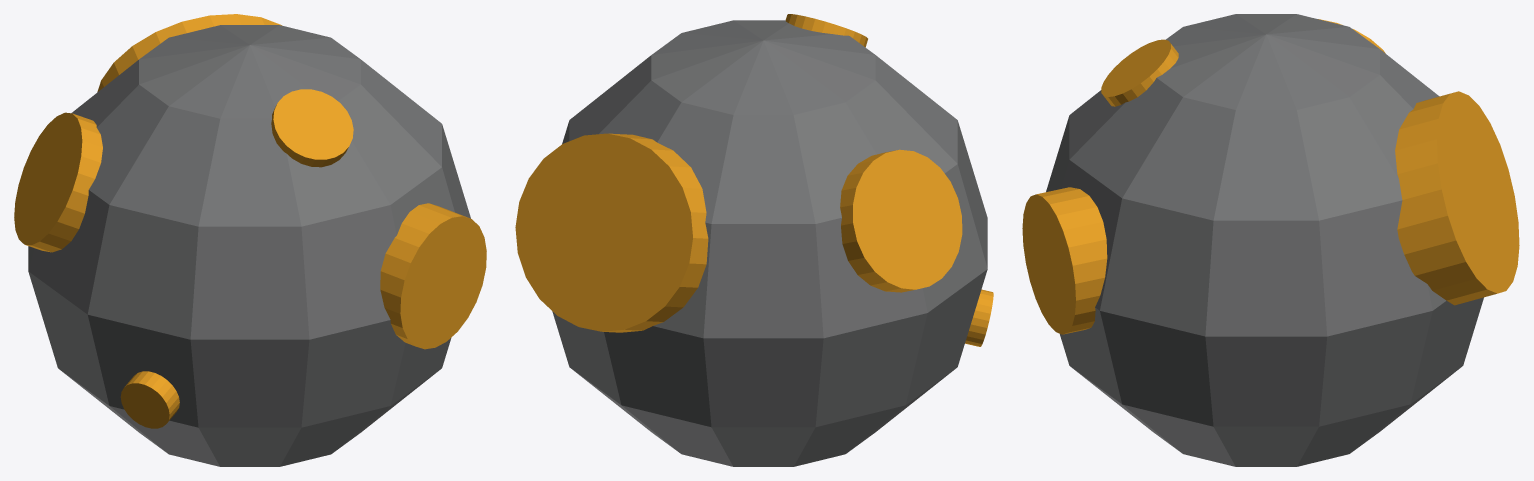
File: AsteroidExoticMatter.obj
The picture shows the model from 3 angles, left to right: view 1: azimuth 30°, elevation 25°; view 2: azimuth 150°, elevation 25°; view 3: azimuth 270°, elevation 25°; orthographic projection. The views are drawn at different scales.
Visible parts, largest first — view 1: AsteroidBody, Exotic5, Exotic2, Exotic1, Exotic4, Exotic3; view 2: AsteroidBody, Exotic3, Exotic2, Exotic4, Exotic1; view 3: AsteroidBody, Exotic3, Exotic5, Exotic1.
Boxes of the visible parts, box(x1,y1,x2,y2) form: AsteroidBody: box(28, 25, 470, 466); Exotic5: box(380, 203, 486, 349); Exotic2: box(14, 112, 102, 252); Exotic1: box(271, 89, 353, 167); Exotic4: box(120, 371, 179, 428); Exotic3: box(97, 14, 281, 91); AsteroidBody: box(552, 20, 987, 466); Exotic3: box(515, 133, 708, 332); Exotic2: box(840, 149, 962, 292); Exotic4: box(965, 289, 993, 346); Exotic1: box(785, 14, 867, 47); AsteroidBody: box(1046, 14, 1483, 466); Exotic3: box(1395, 91, 1519, 305); Exotic5: box(1022, 187, 1107, 334); Exotic1: box(1101, 39, 1178, 106).
Bounding box in the file's own units: 0.2567 × 0.25 × 0.2733.
2 materials, 2 textured.
